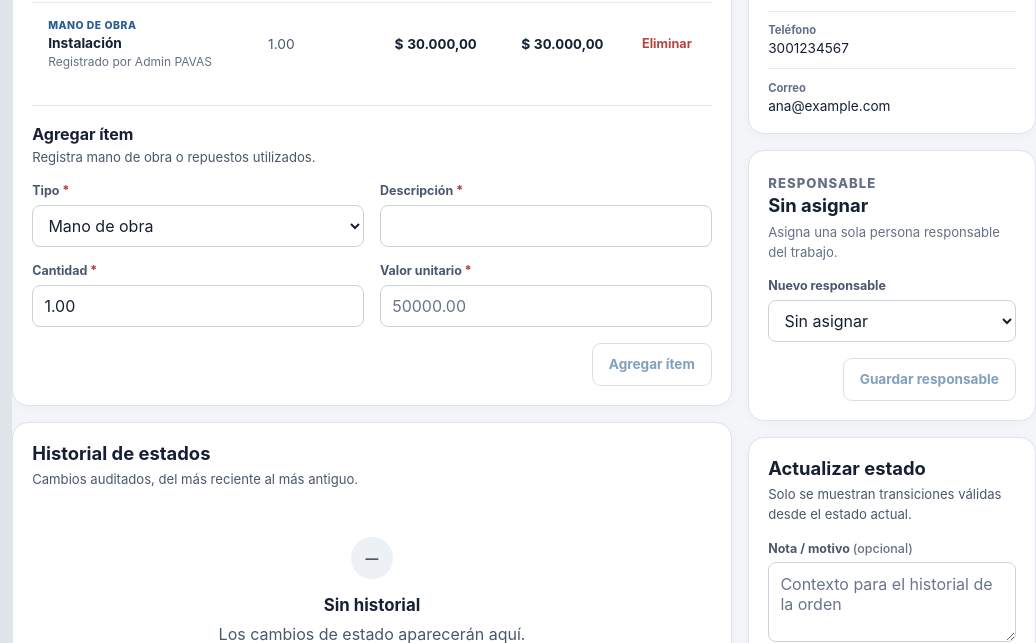
WorkOrderDetailPage › allows ADMIN to assign an unassigned order without a reason
(page scrolled)
Select "Laura Mecánica" in the dropdown labelled "Nuevo responsable" at point(892, 321), box x1=768 y1=300 x2=1016 y2=342
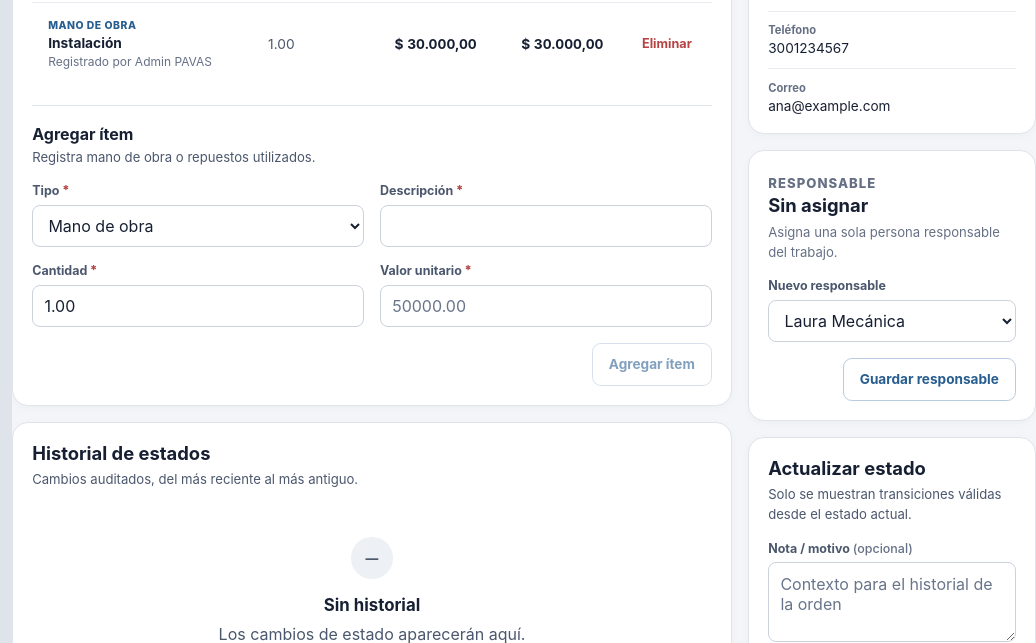
Click the button "Guardar responsable" at point(929, 380), box x1=843 y1=358 x2=1016 y2=401
(page scrolled)
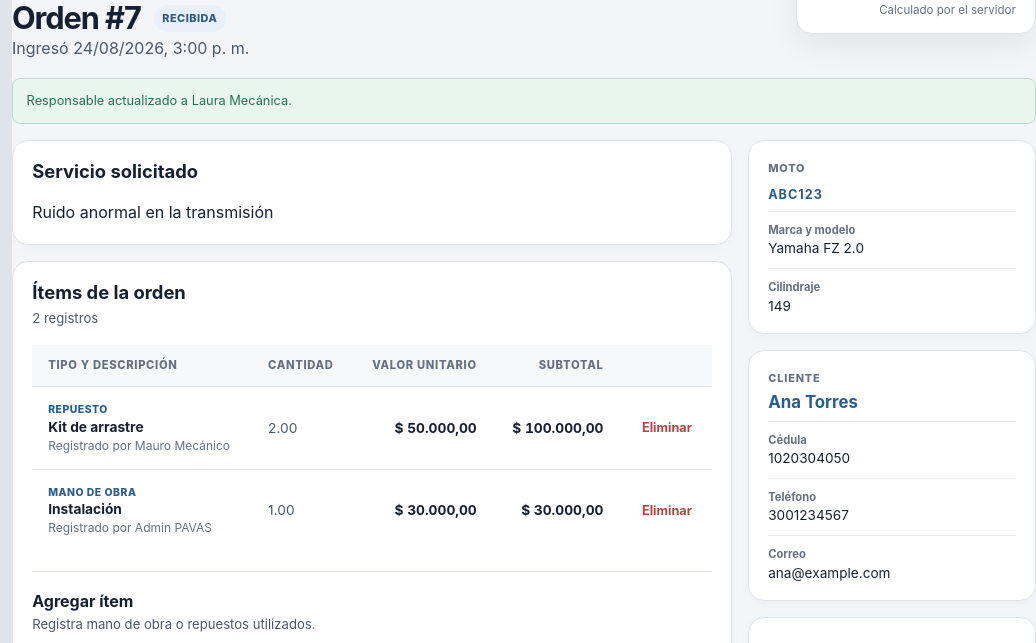
Check: the text "Responsable actualizado a Laura Mecánica." is shown, box x1=12 y1=78 x2=1035 y2=124
